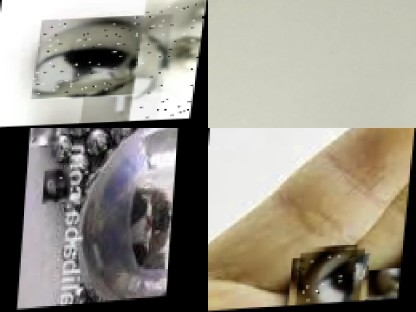ironball: (75, 127, 179, 305), (32, 15, 171, 99), (131, 0, 207, 122), (297, 251, 365, 306), (81, 96, 162, 124), (369, 271, 403, 302), (41, 169, 70, 204), (27, 127, 59, 147)
